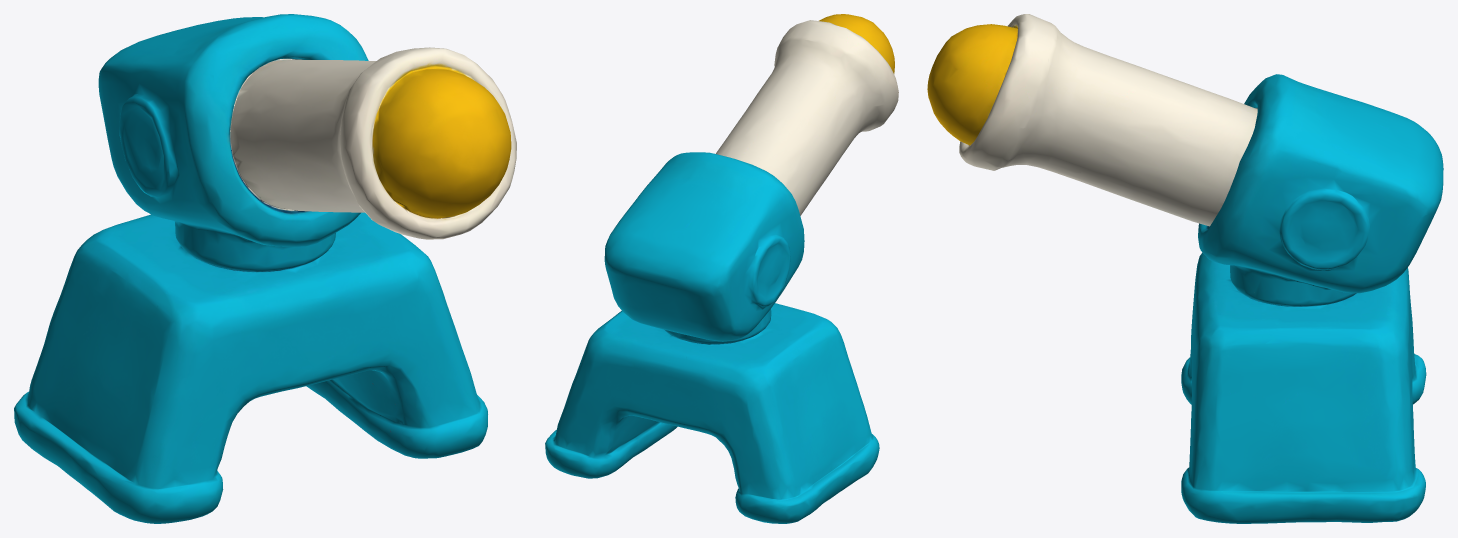
File: cannon.glb
3 renders of one model, left to right at view 1: azimuth 30°, elevation 25°; view 2: azimuth 150°, elevation 25°; view 3: azimuth 270°, elevation 25°, orthographic. The views are drawn at different scales.
Visible parts, largest first — view 1: tripo_node_1875b5d3-dc8d-41de-b85c-c512792d51f8; view 2: tripo_node_1875b5d3-dc8d-41de-b85c-c512792d51f8; view 3: tripo_node_1875b5d3-dc8d-41de-b85c-c512792d51f8.
Part boxes in pixels (x1,y1,x2,y2): tripo_node_1875b5d3-dc8d-41de-b85c-c512792d51f8: (14,14,516,523); tripo_node_1875b5d3-dc8d-41de-b85c-c512792d51f8: (545,14,898,523); tripo_node_1875b5d3-dc8d-41de-b85c-c512792d51f8: (927,14,1443,523).
Size of the model in its own units: 0.7023 by 0.918 by 1.
Materials: 1 (1 with a texture image).
